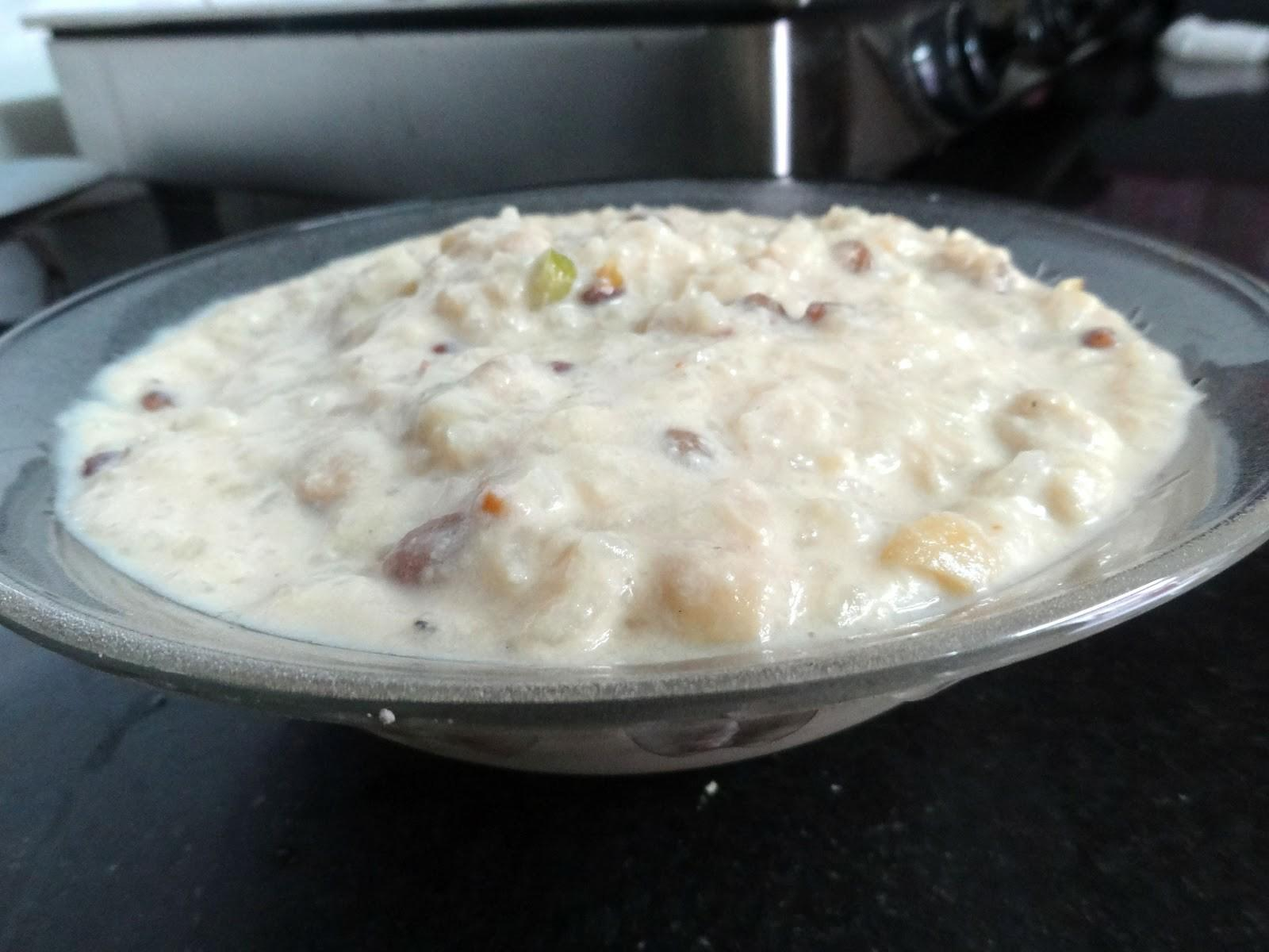Kheer: (56, 206, 1269, 665)
